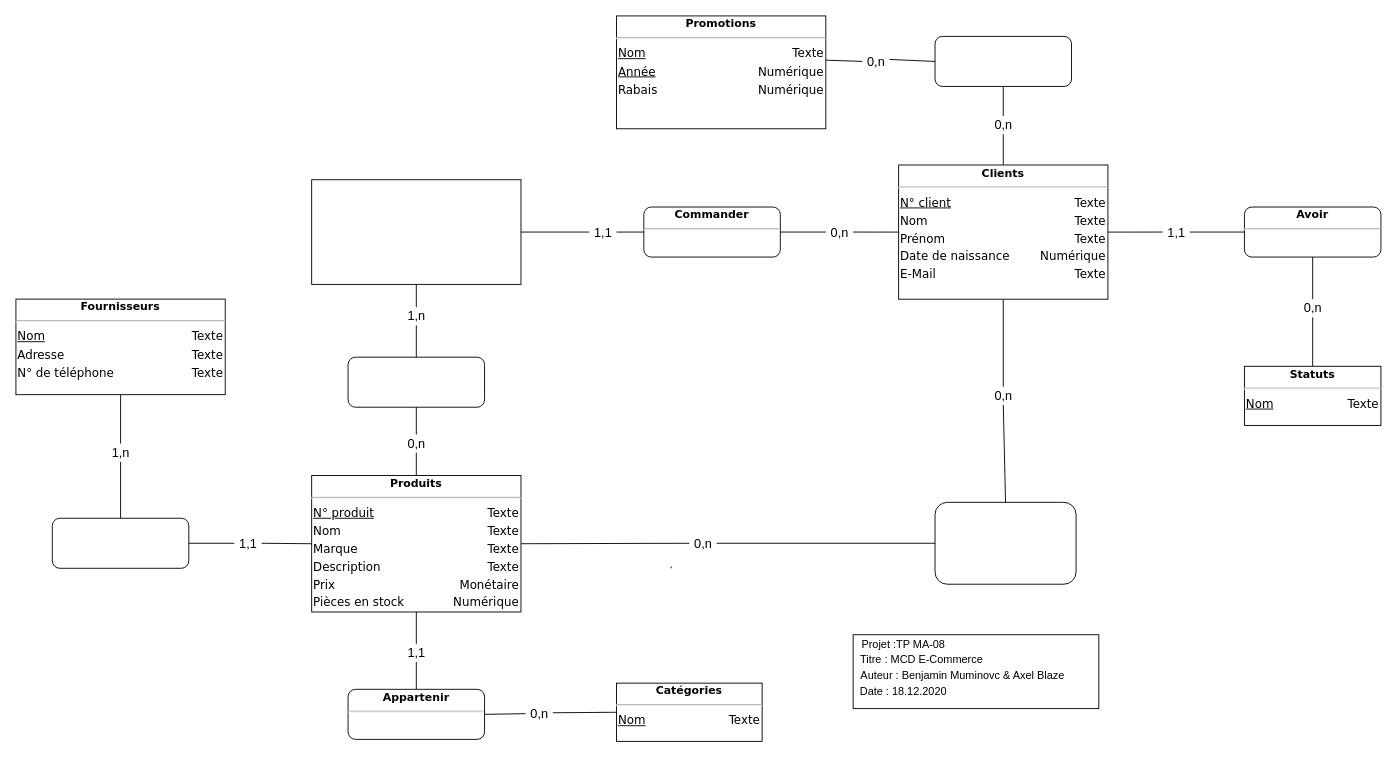
The diagram is 1397 pixels wide and 758 high, and some of its shapes have lost their labels. The shapes that lost their labels are listed below. From the top down, each one's centre as x and y in pixels, then its label:
At (1003,60): "Bénéficier".
At (416,231): "Commandes N° commande Texte Date de passage Date État Texte".
At (416,381): "Contenir".
At (120,542): "Fournir".
At (1005,542): "Commenter Titre Texte Texte Texte".
